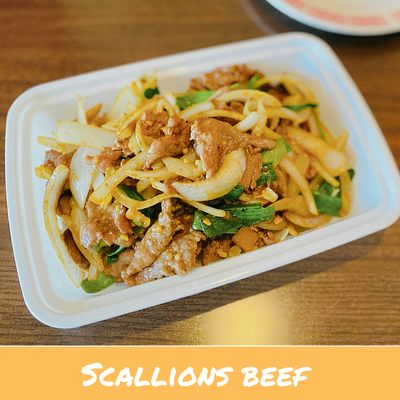curry: (312, 180, 342, 216)
sushi: (7, 4, 400, 323)
